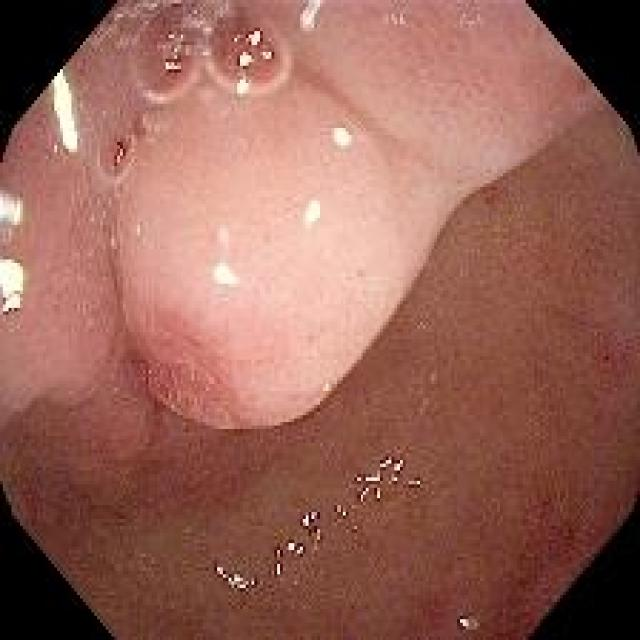Polyps: (119, 79, 408, 428)
